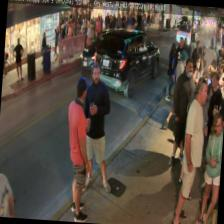person: (170, 74, 211, 224), (78, 60, 119, 192), (60, 75, 96, 222), (168, 56, 198, 166), (195, 111, 224, 224), (197, 69, 223, 172)
